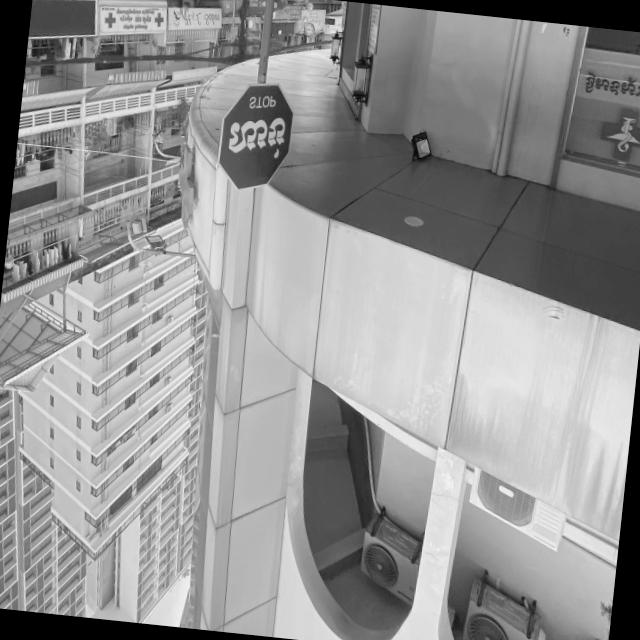Yolov11kh: (224, 108, 288, 161), (577, 66, 640, 106)
